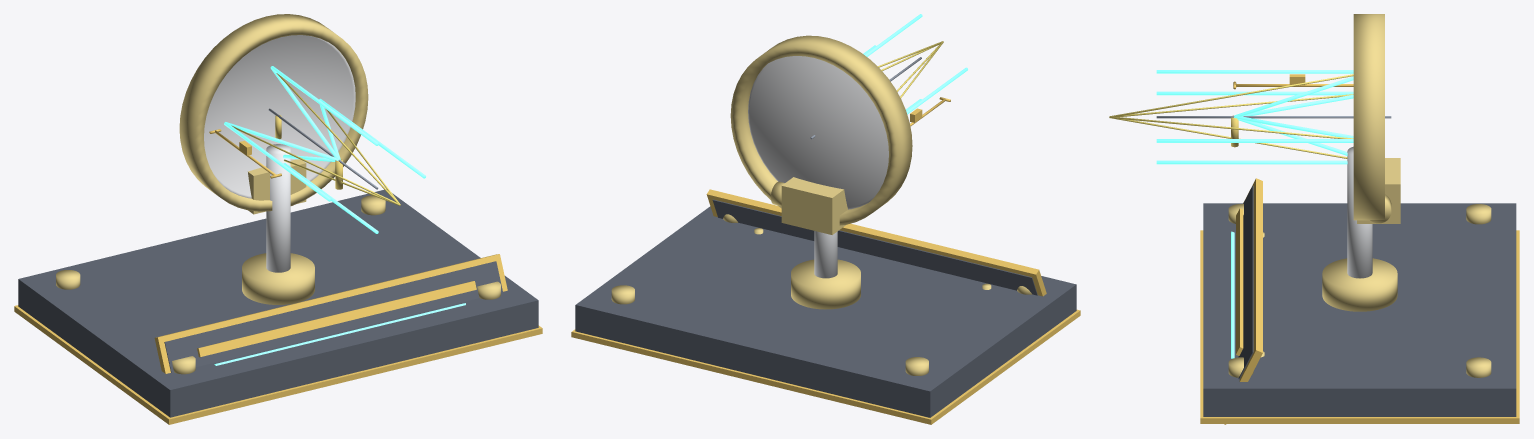
Rendered from concave-mirror.glb.
3 renders of one model, left to right at view 1: azimuth 30°, elevation 25°; view 2: azimuth 150°, elevation 25°; view 3: azimuth 270°, elevation 25°, orthographic. The views are drawn at different scales.
Parts seen in each view (by area): view 1: m_ccv_full_plinth, m_ccv_full_dish, m_ccv_full_bezel, m_ccv_sec_plaque_face, m_ccv_full_plinth_rim, m_ccv_sec_plaque_trim, m_ccv_full_base_boss, m_ccv_sec_title_bar, m_ccv_full_chrome_post, m_ccv_full_swivel_bracket, m_ccv_sec_sub1, m_ccv_sec_r_inc_2 (+1 smaller); view 2: m_ccv_full_plinth, m_ccv_full_dish, m_ccv_full_bezel, m_ccv_sec_plaque_face, m_ccv_full_plinth_rim, m_ccv_sec_plaque_trim, m_ccv_full_swivel_bracket, m_ccv_full_base_boss, m_ccv_full_chrome_post; view 3: m_ccv_full_plinth, m_ccv_full_bezel, m_ccv_full_plinth_rim, m_ccv_full_base_boss, m_ccv_sec_plaque_trim, m_ccv_full_chrome_post, m_ccv_sec_plaque_face, m_ccv_sec_title_bar, m_ccv_full_swivel_bracket, m_ccv_sec_r_inc_3, m_ccv_sec_r_inc_1, m_ccv_sec_r_inc_0 (+12 smaller).
Boxes of the visible parts, <box> form: m_ccv_full_plinth: <box>18,189,538,417</box>; m_ccv_full_dish: <box>204,35,355,198</box>; m_ccv_full_bezel: <box>179,14,368,211</box>; m_ccv_sec_plaque_face: <box>164,261,502,372</box>; m_ccv_full_plinth_rim: <box>14,305,542,424</box>; m_ccv_sec_plaque_trim: <box>154,254,507,373</box>; m_ccv_full_base_boss: <box>242,253,314,304</box>; m_ccv_sec_title_bar: <box>197,281,476,357</box>; m_ccv_full_chrome_post: <box>266,144,290,272</box>; m_ccv_full_swivel_bracket: <box>248,159,306,214</box>; m_ccv_sec_sub1: <box>214,303,465,365</box>; m_ccv_sec_r_inc_2: <box>270,66,378,145</box>; m_ccv_full_plinth: <box>575,206,1076,417</box>; m_ccv_full_dish: <box>748,56,888,209</box>; m_ccv_full_bezel: <box>730,35,912,225</box>; m_ccv_sec_plaque_face: <box>712,199,1037,295</box>; m_ccv_full_plinth_rim: <box>571,309,1080,424</box>; m_ccv_sec_plaque_trim: <box>706,189,1046,296</box>; m_ccv_full_swivel_bracket: <box>781,177,847,234</box>; m_ccv_full_base_boss: <box>791,259,860,309</box>; m_ccv_full_chrome_post: <box>814,231,837,278</box>; m_ccv_full_plinth: <box>1203,203,1516,416</box>; m_ccv_full_bezel: <box>1353,14,1384,220</box>; m_ccv_full_plinth_rim: <box>1200,230,1519,423</box>; m_ccv_full_base_boss: <box>1322,258,1397,311</box>; m_ccv_sec_plaque_trim: <box>1224,178,1262,424</box>; m_ccv_full_chrome_post: <box>1347,146,1372,278</box>; m_ccv_sec_plaque_face: <box>1238,186,1253,379</box>; m_ccv_sec_title_bar: <box>1236,208,1243,355</box>; m_ccv_full_swivel_bracket: <box>1357,158,1400,223</box>; m_ccv_sec_r_inc_3: <box>1156,160,1347,164</box>; m_ccv_sec_r_inc_1: <box>1156,91,1353,95</box>; m_ccv_sec_r_inc_0: <box>1156,139,1353,142</box>.
Size of the model in its own units: 0.142 by 0.1112 by 0.1311.
